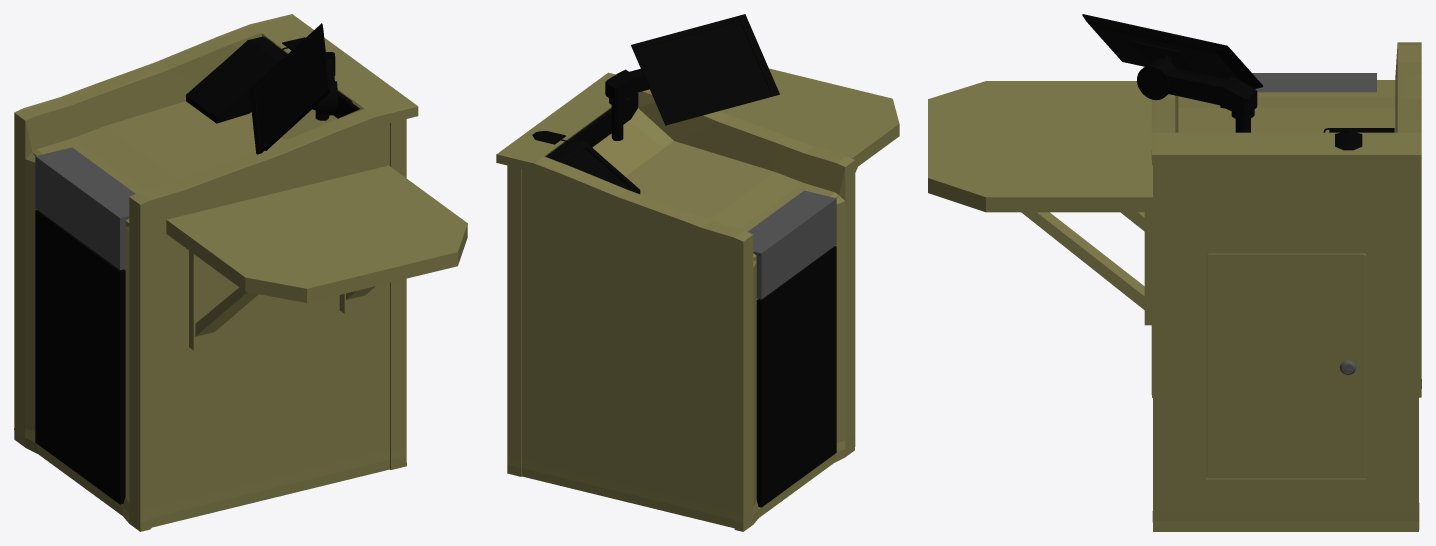
Rendered from podium.fbx.
3 views of the same model, side by side, from view 1: azimuth 30°, elevation 25°; view 2: azimuth 150°, elevation 25°; view 3: azimuth 270°, elevation 25° (orthographic). The views are drawn at different scales.
Parts seen in each view (by area): view 1: Podium, Electronics, GranitePlate, Monitor, electronicsDash, Monitor Arm; view 2: Podium, Electronics, Monitor, GranitePlate, electronicsDash, Monitor Arm; view 3: Podium, Monitor Arm, Monitor, GranitePlate.
Boxes of the visible parts, x1=… form: Podium: x1=14, y1=14, x2=467, y2=531; Electronics: x1=35, y1=210, x2=125, y2=504; GranitePlate: x1=35, y1=147, x2=135, y2=270; Monitor: x1=249, y1=23, x2=329, y2=154; electronicsDash: x1=186, y1=36, x2=359, y2=123; Monitor Arm: x1=312, y1=52, x2=337, y2=120; Podium: x1=496, y1=68, x2=899, y2=531; Electronics: x1=756, y1=246, x2=836, y2=507; Monitor: x1=631, y1=14, x2=779, y2=125; GranitePlate: x1=748, y1=190, x2=836, y2=299; electronicsDash: x1=546, y1=93, x2=640, y2=193; Monitor Arm: x1=605, y1=68, x2=649, y2=140; Podium: x1=928, y1=42, x2=1421, y2=531; Monitor Arm: x1=1131, y1=40, x2=1257, y2=132; Monitor: x1=1082, y1=14, x2=1262, y2=88; GranitePlate: x1=1252, y1=73, x2=1376, y2=92.
Size of the model in its own units: 190 by 280 by 272.
